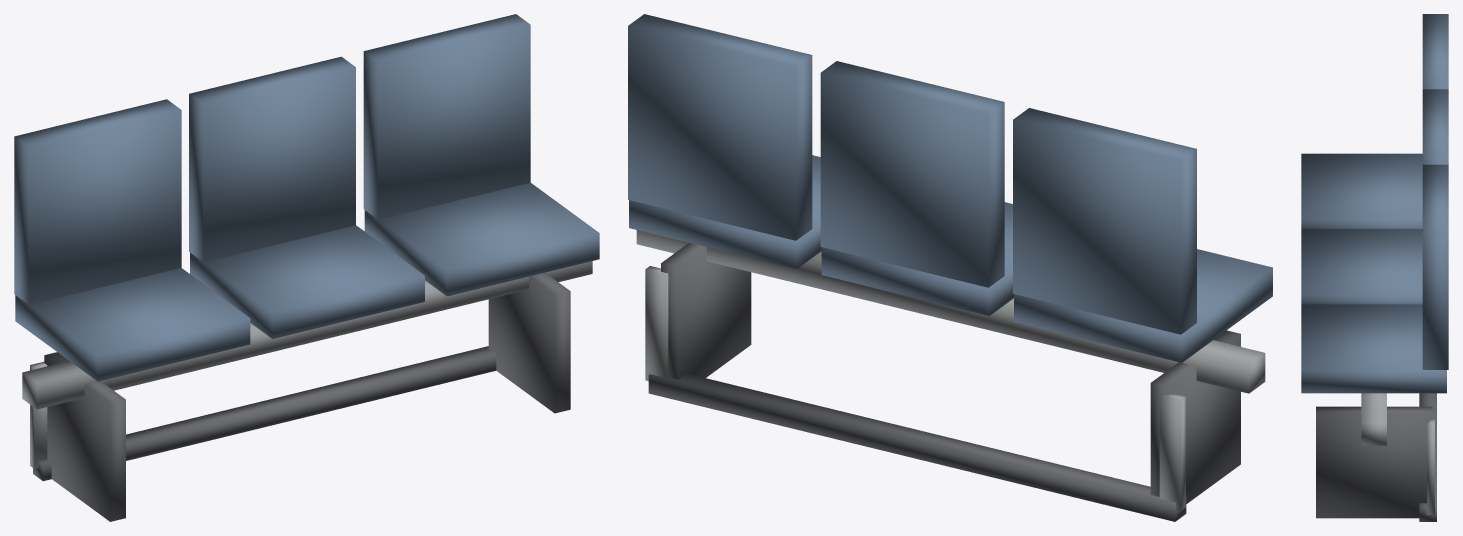
The model's file is waiting_chair_beam_row__reinforced.glb.
3 renders of one model, left to right at view 1: azimuth 30°, elevation 25°; view 2: azimuth 150°, elevation 25°; view 3: azimuth 270°, elevation 25°, orthographic. The views are drawn at different scales.
Parts seen in each view (by area): view 1: world; view 2: world; view 3: world.
Part boxes in pixels (x1,y1,x2,y2): world: (14, 14, 599, 521); world: (628, 14, 1272, 521); world: (1301, 14, 1448, 521).
Bounding box in the file's own units: 1.8 × 1.04 × 0.4687.
